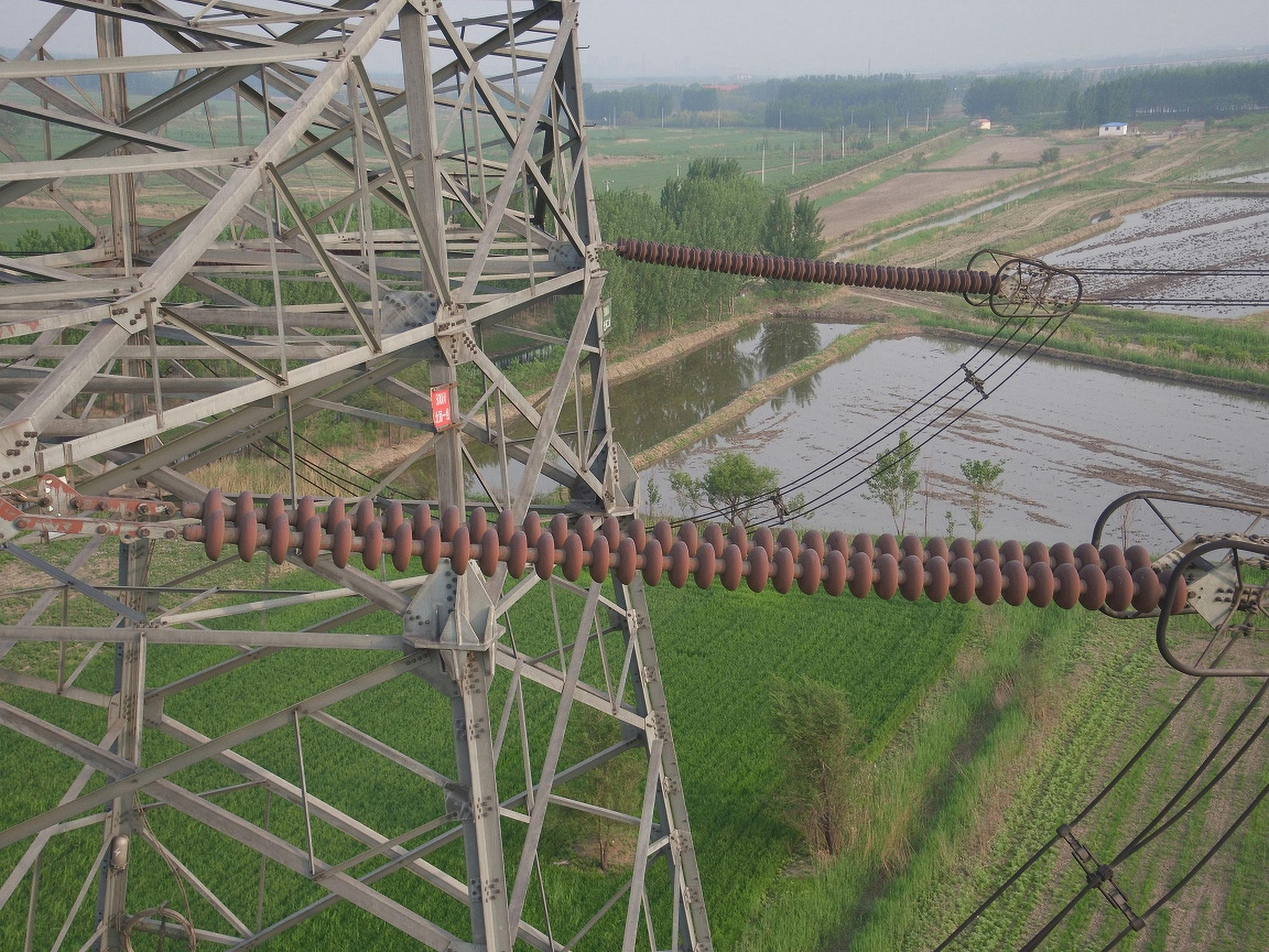insulator: (197, 482, 1192, 623), (613, 232, 1004, 299)
